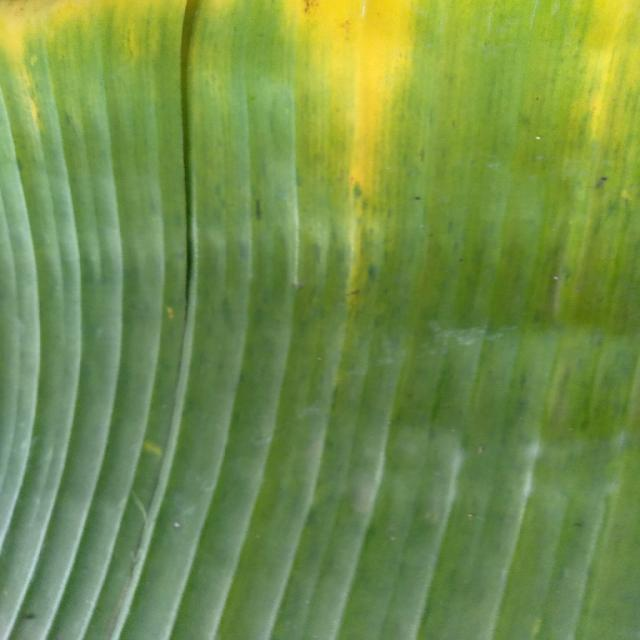Cordana: (0, 0, 639, 400)
